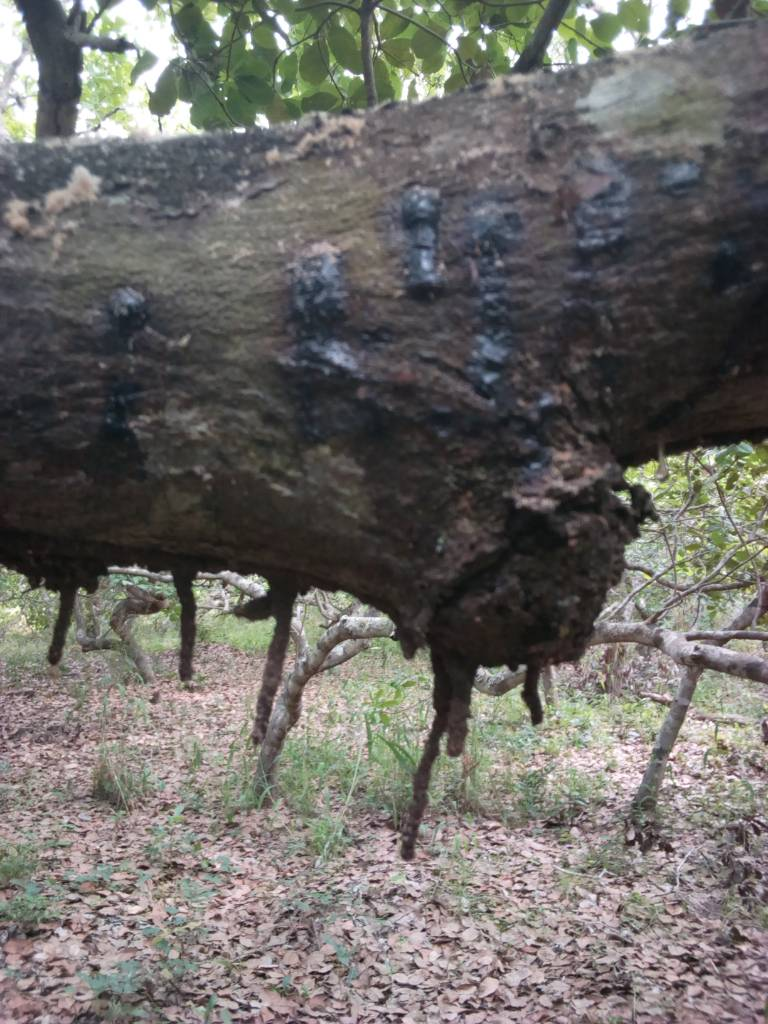Gommose: (124, 186, 768, 403)
